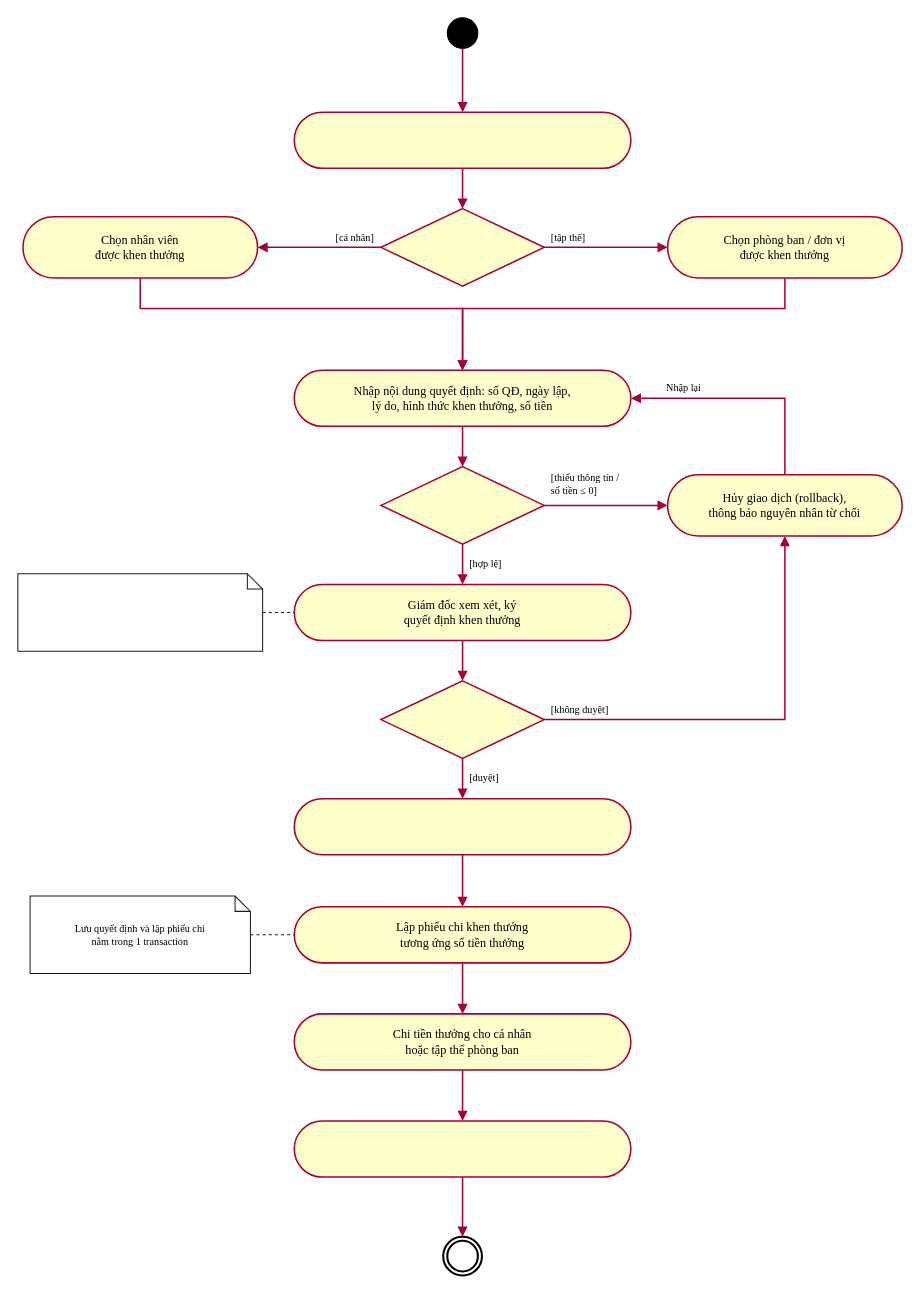
Image size: 921x1294. Some labels were removed from this diagram. The centre of each missing label's shape, as x and y in pixels:
Dùng chung cho thưởng ngày lễ, thưởng cuối năm, lương tháng 13 (giám đốc ký): the point at 140,612
Lưu quyết định khen thưởng: the point at 462,826
Thông báo lập quyết định thành công: the point at 462,1148
Trưởng phòng/ban đề xuất khen thưởng (cá nhân hoặc tập thể phòng ban): the point at 462,140
